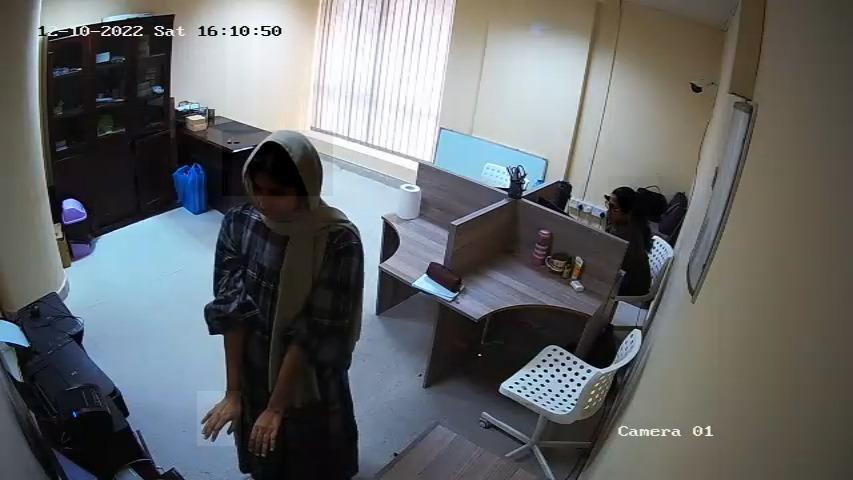no_apron: (198, 391, 242, 446), (244, 411, 283, 464)
no_gloves: (222, 130, 333, 196), (608, 176, 663, 216)
no_hairnet: (236, 176, 308, 232), (603, 197, 628, 226)
